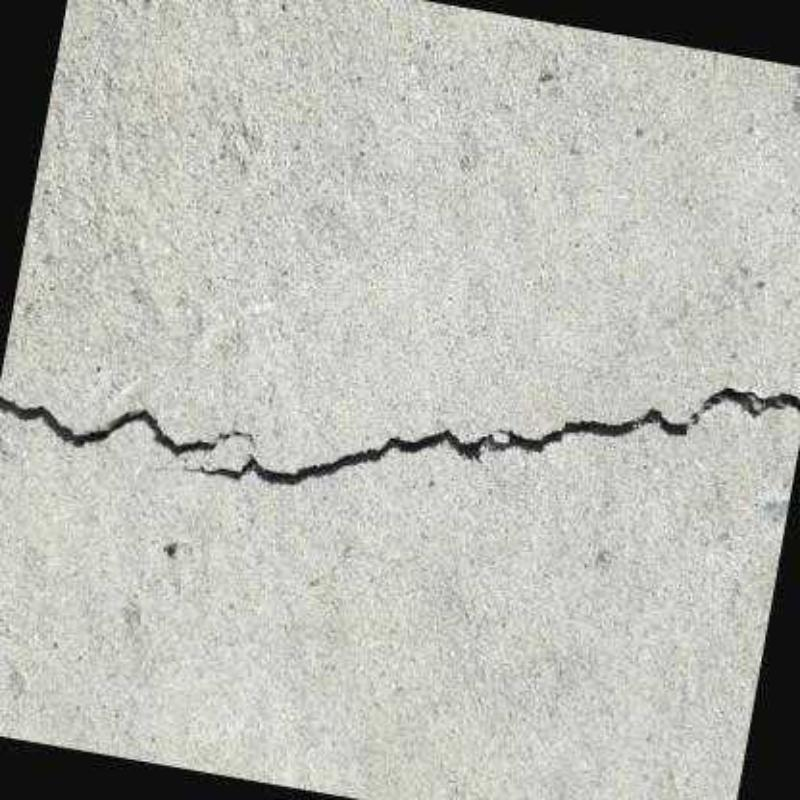pothole: (187, 380, 800, 485), (0, 392, 250, 455)
